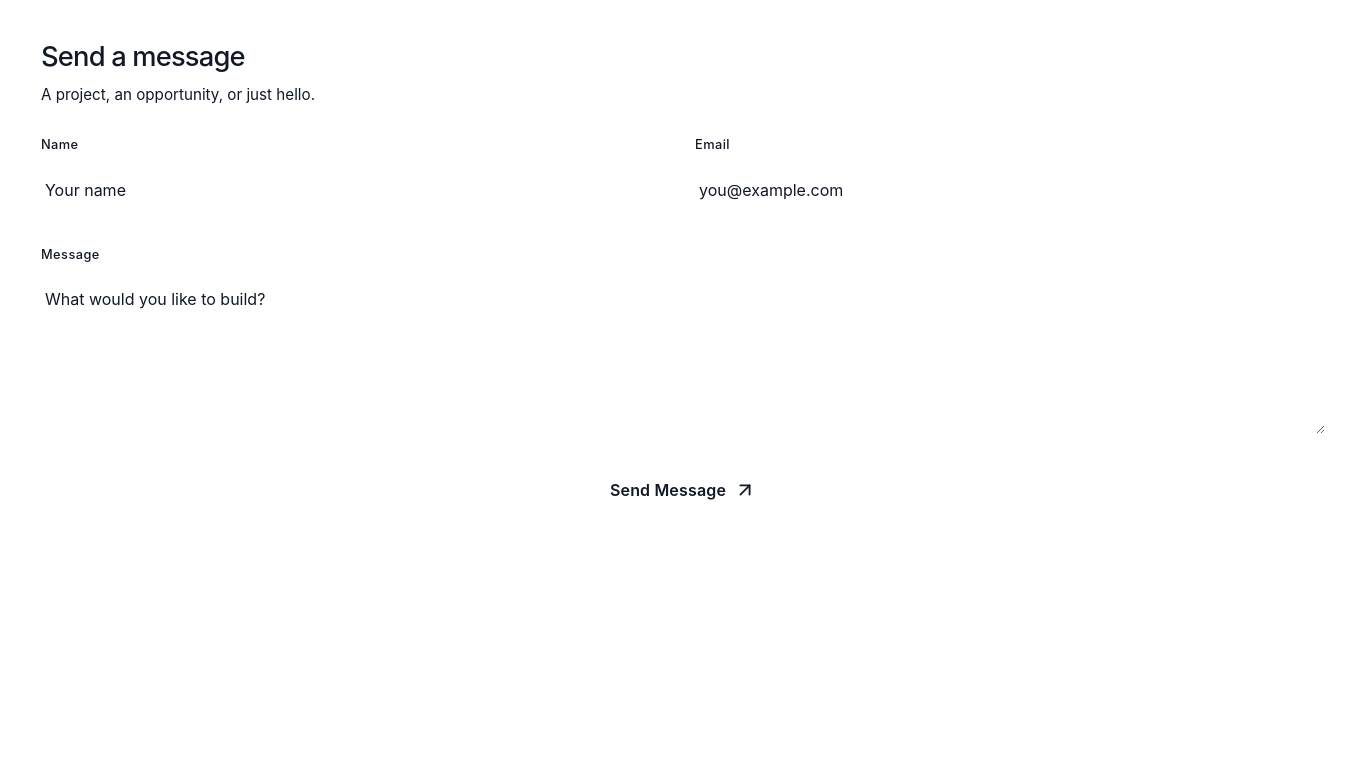
ContactForm › retains the draft and exposes the timeout recovery without starting a flight
Type "Leul" into the field labelled "Name" at [356, 190], box x1=41 y1=164 x2=671 y2=216
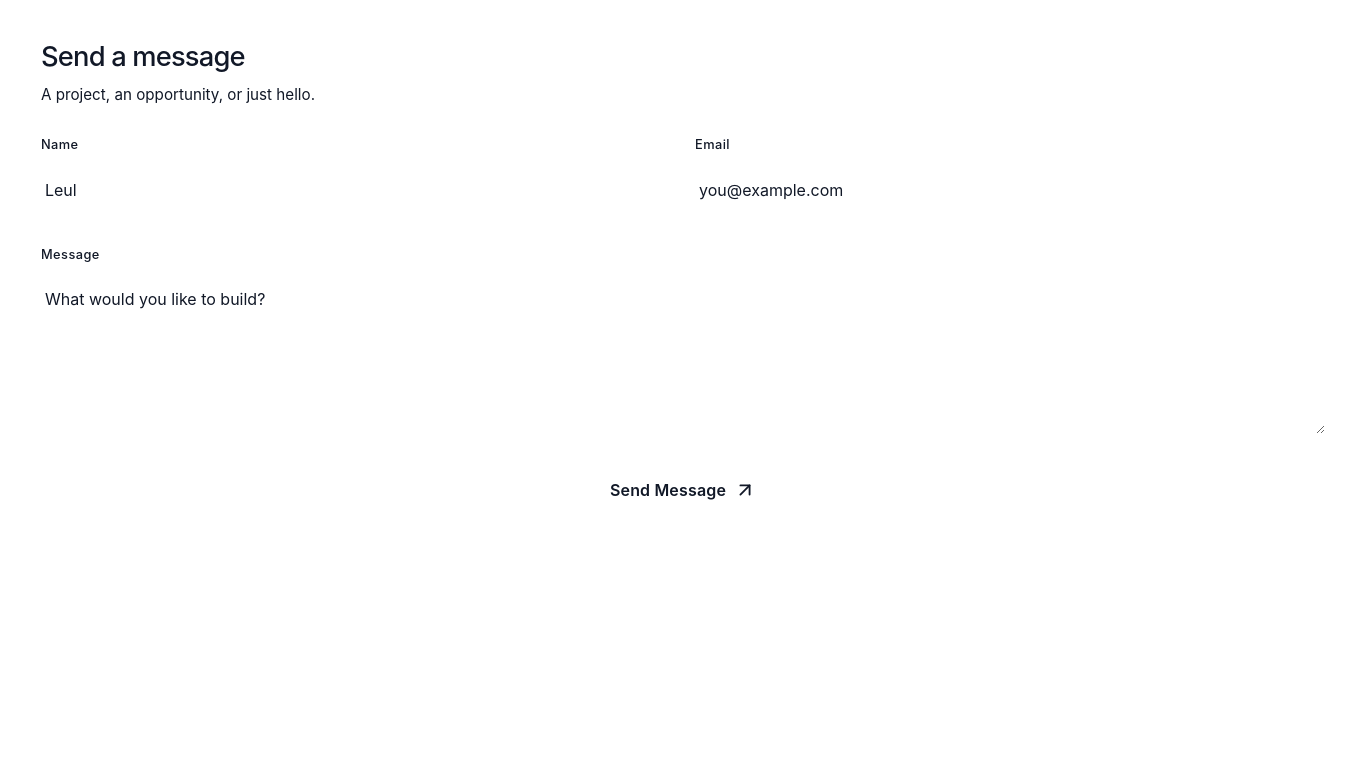
Type "leul@example.com" into the field labelled "Email" at [1010, 190], box x1=695 y1=164 x2=1325 y2=216
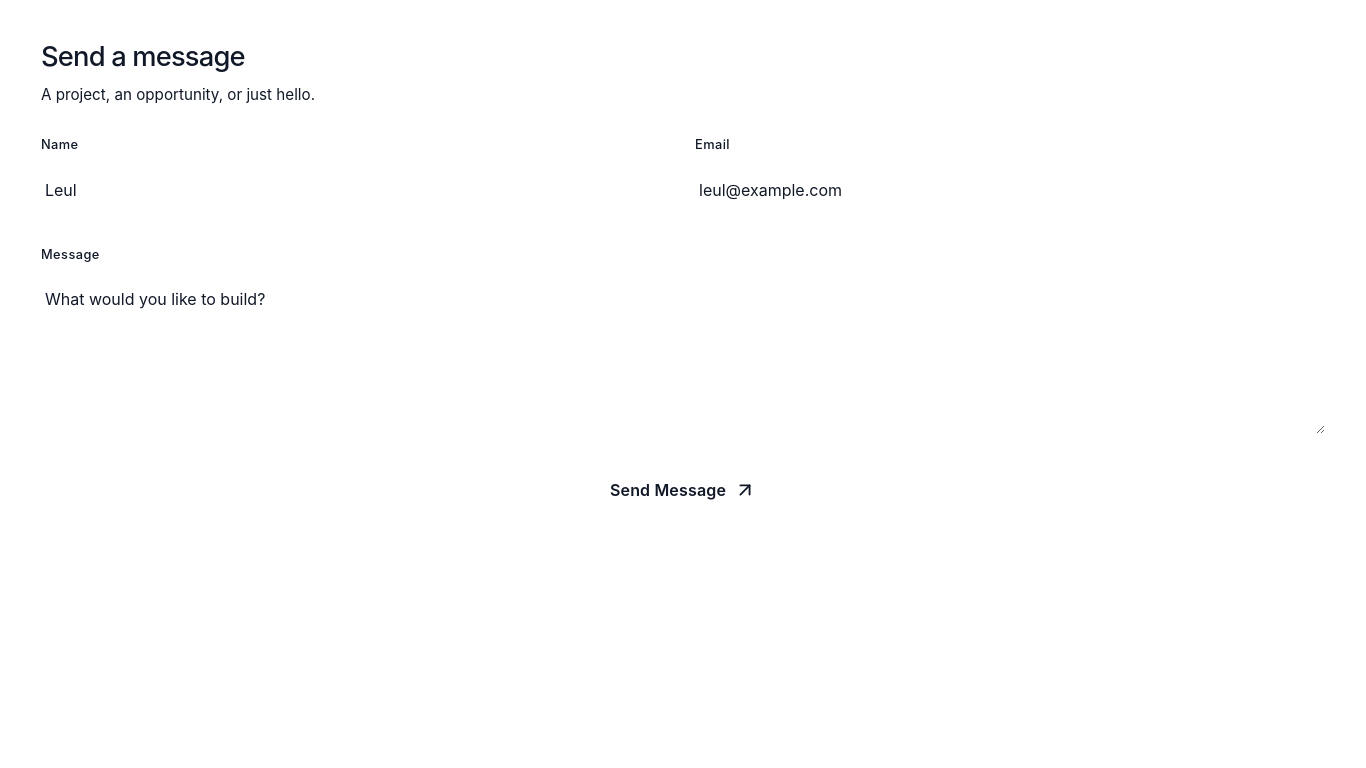
Type "Keep this draft" into the text box labelled "Message" at [683, 354], box x1=41 y1=274 x2=1325 y2=434
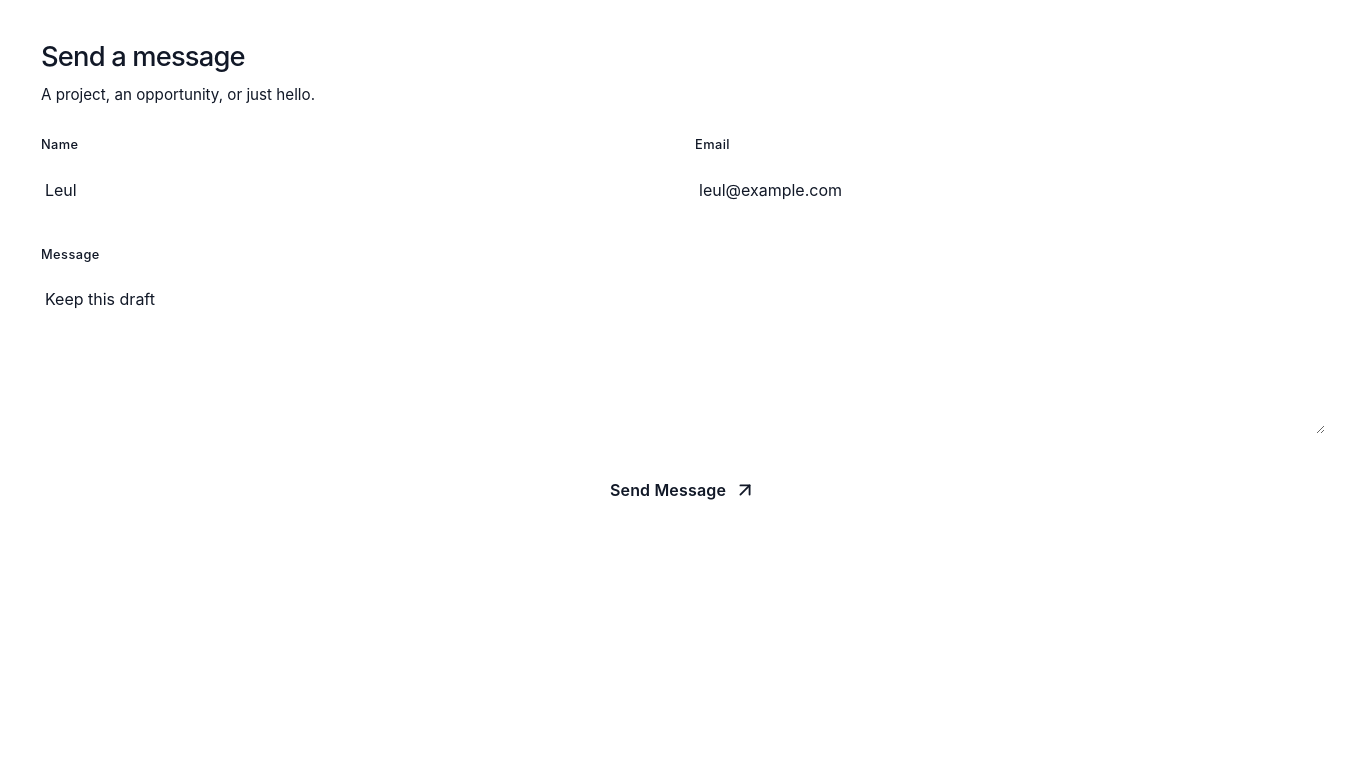
Submit the form "Name"
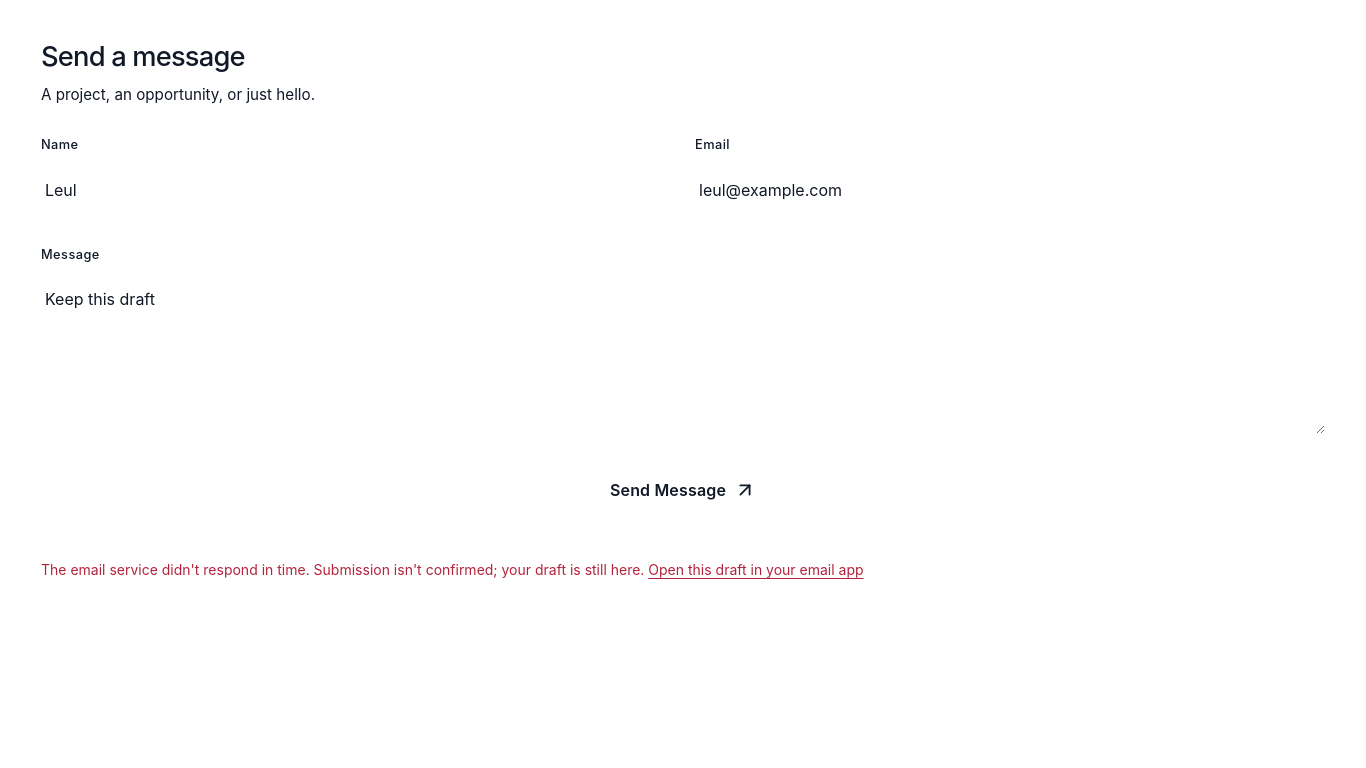
Expected: the button "Send Message" is enabled, x1=41 y1=462 x2=1325 y2=518
Expected: the message shows "The email service didn't respond in time.", x1=41 y1=561 x2=644 y2=578
